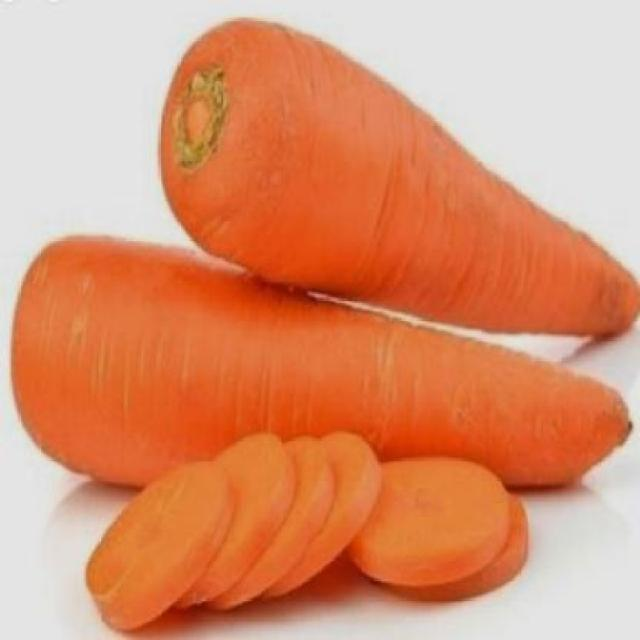carrot: (10, 226, 632, 499), (152, 3, 640, 348)
